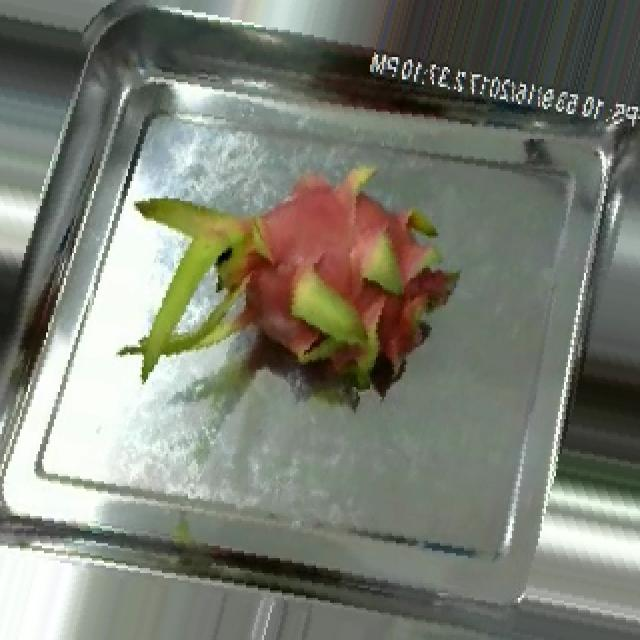fruit: (76, 99, 488, 474)
